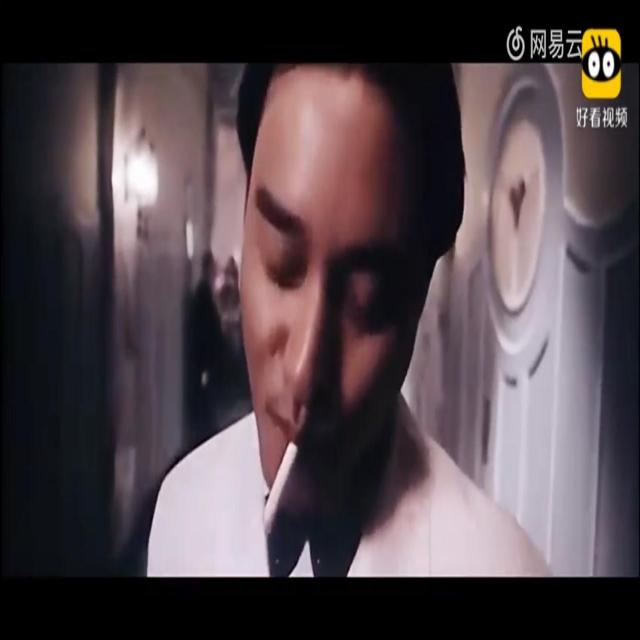Сигарета: (262, 440, 300, 534)
Тело: (148, 52, 516, 574)
